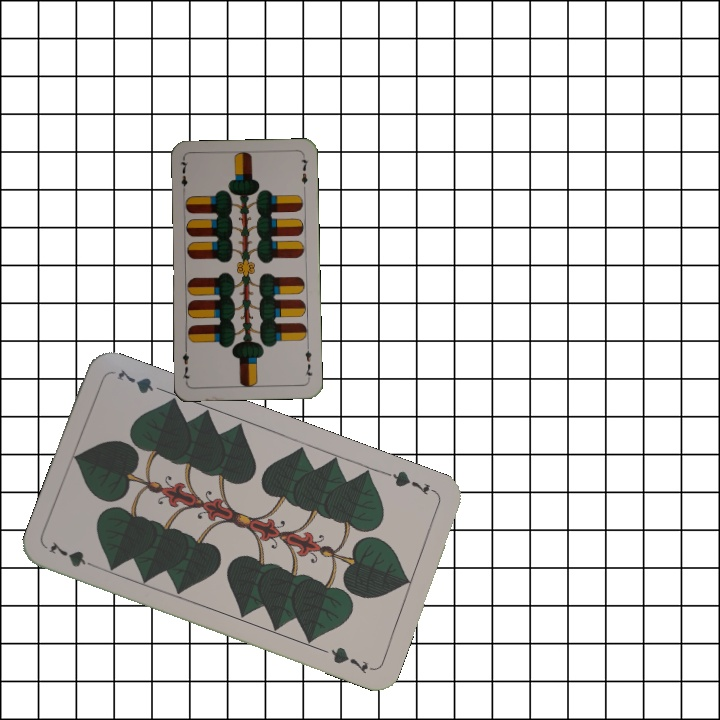E7: (301, 342, 315, 382), (176, 156, 190, 196)
G7: (45, 537, 102, 572), (382, 466, 439, 498)
